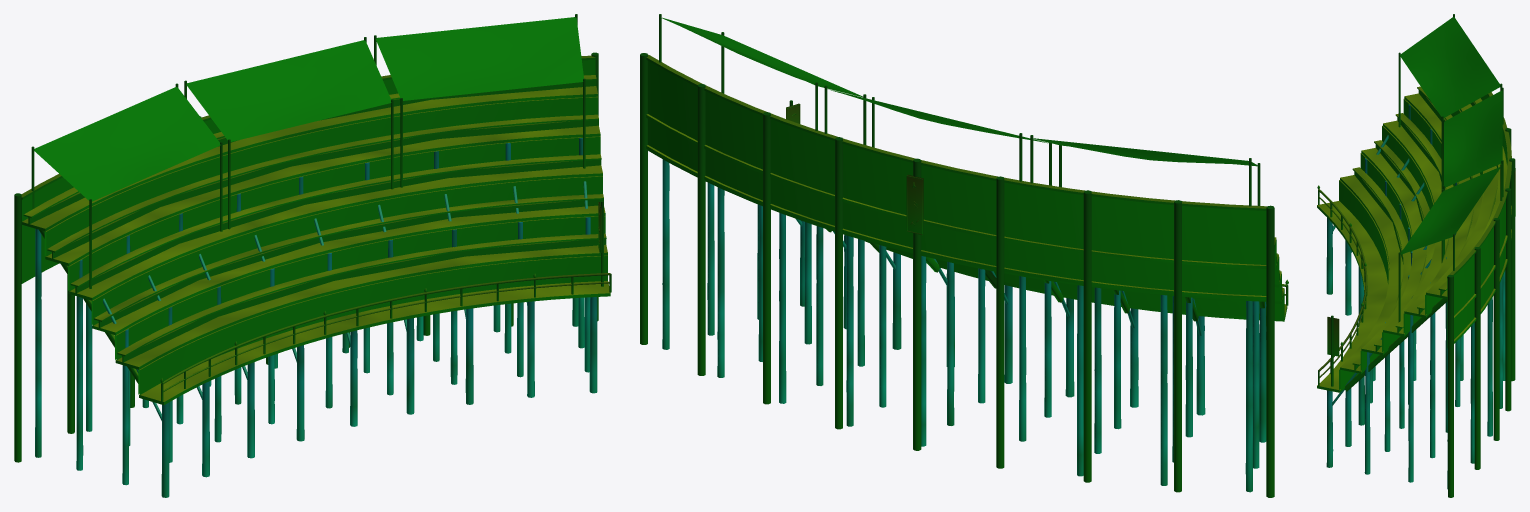
Rendered from gallery_segment_a.glb.
3 views of the same model, side by side, from view 1: azimuth 30°, elevation 25°; view 2: azimuth 150°, elevation 25°; view 3: azimuth 270°, elevation 25° (orthographic). The views are drawn at different scales.
Visible parts, largest first — view 1: gallery_segment_a; view 2: gallery_segment_a; view 3: gallery_segment_a.
Part boxes in pixels (x1,y1,x2,y2): gallery_segment_a: (14, 14, 611, 497); gallery_segment_a: (640, 14, 1288, 497); gallery_segment_a: (1317, 14, 1515, 497).
Size of what is drawn, in the model's own units: 35.33 by 17.85 by 12.58.
